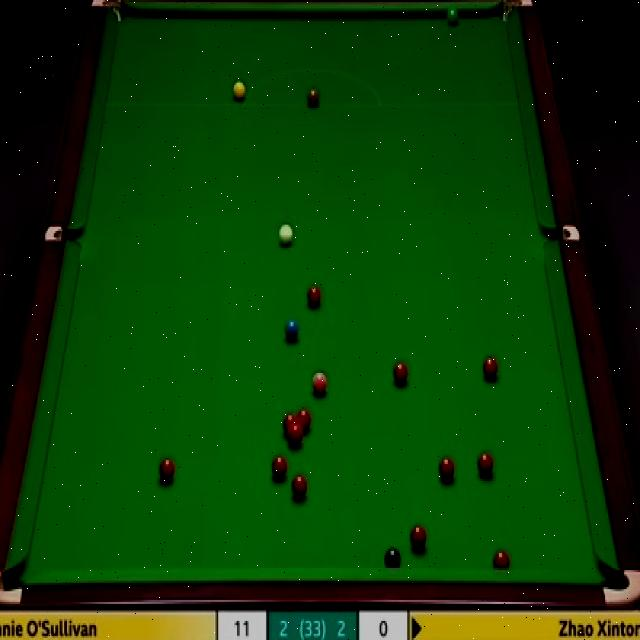black-ball: (384, 546, 402, 568)
blue-ball: (283, 318, 301, 340)
brown-ball: (307, 84, 319, 106)
green-ball: (446, 3, 461, 24)
pink-ball: (311, 372, 329, 398)
red-ball: (154, 458, 178, 484), (409, 525, 428, 554), (292, 470, 310, 500), (438, 456, 457, 484), (268, 456, 289, 481), (392, 358, 409, 387), (478, 452, 496, 478), (305, 284, 322, 308), (282, 413, 297, 439), (482, 356, 497, 382), (297, 408, 311, 434), (492, 549, 511, 567), (289, 427, 304, 447)
white-ball: (276, 225, 296, 246)
yellow-ball: (232, 83, 245, 100)
